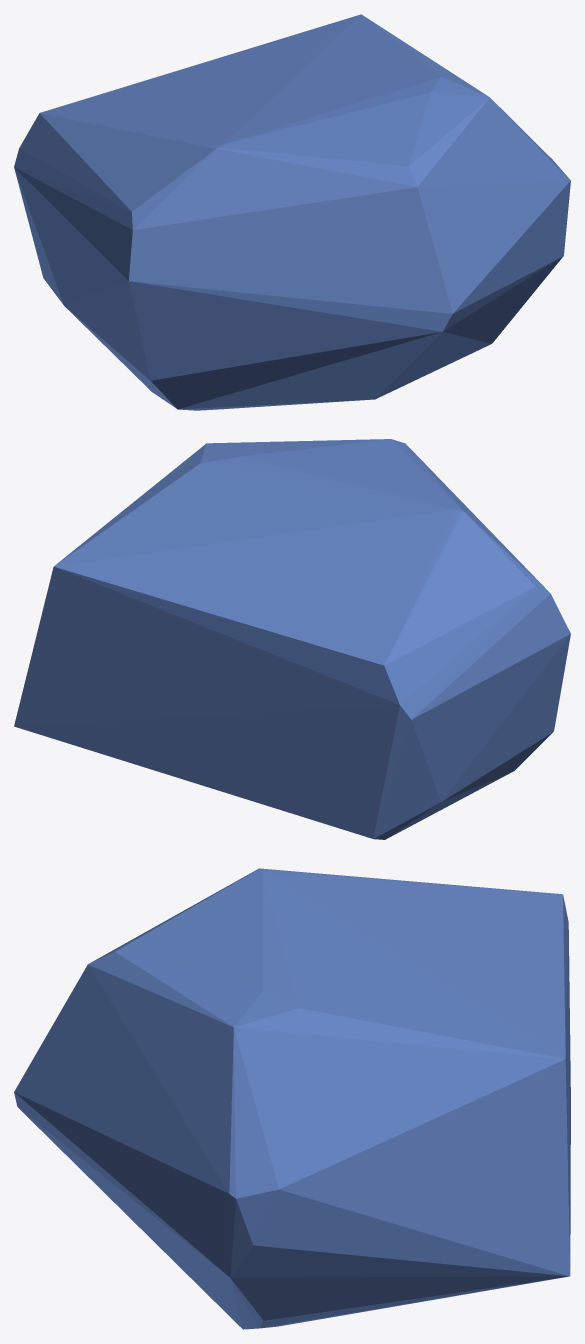
File: toilet_a01.glb
The picture shows the model from 3 angles, top to bottom: view 1: azimuth 30°, elevation 25°; view 2: azimuth 150°, elevation 25°; view 3: azimuth 270°, elevation 25°; orthographic projection. The views are drawn at different scales.
Parts seen in each view (by area): view 1: geometry_0; view 2: geometry_0; view 3: geometry_0.
Boxes of the visible parts, x1=… form: geometry_0: x1=14, y1=14, x2=570, y2=410; geometry_0: x1=14, y1=439, x2=570, y2=839; geometry_0: x1=14, y1=868, x2=570, y2=1329.
Size of the model in its own units: 0.4757 by 0.2736 by 0.4346.
